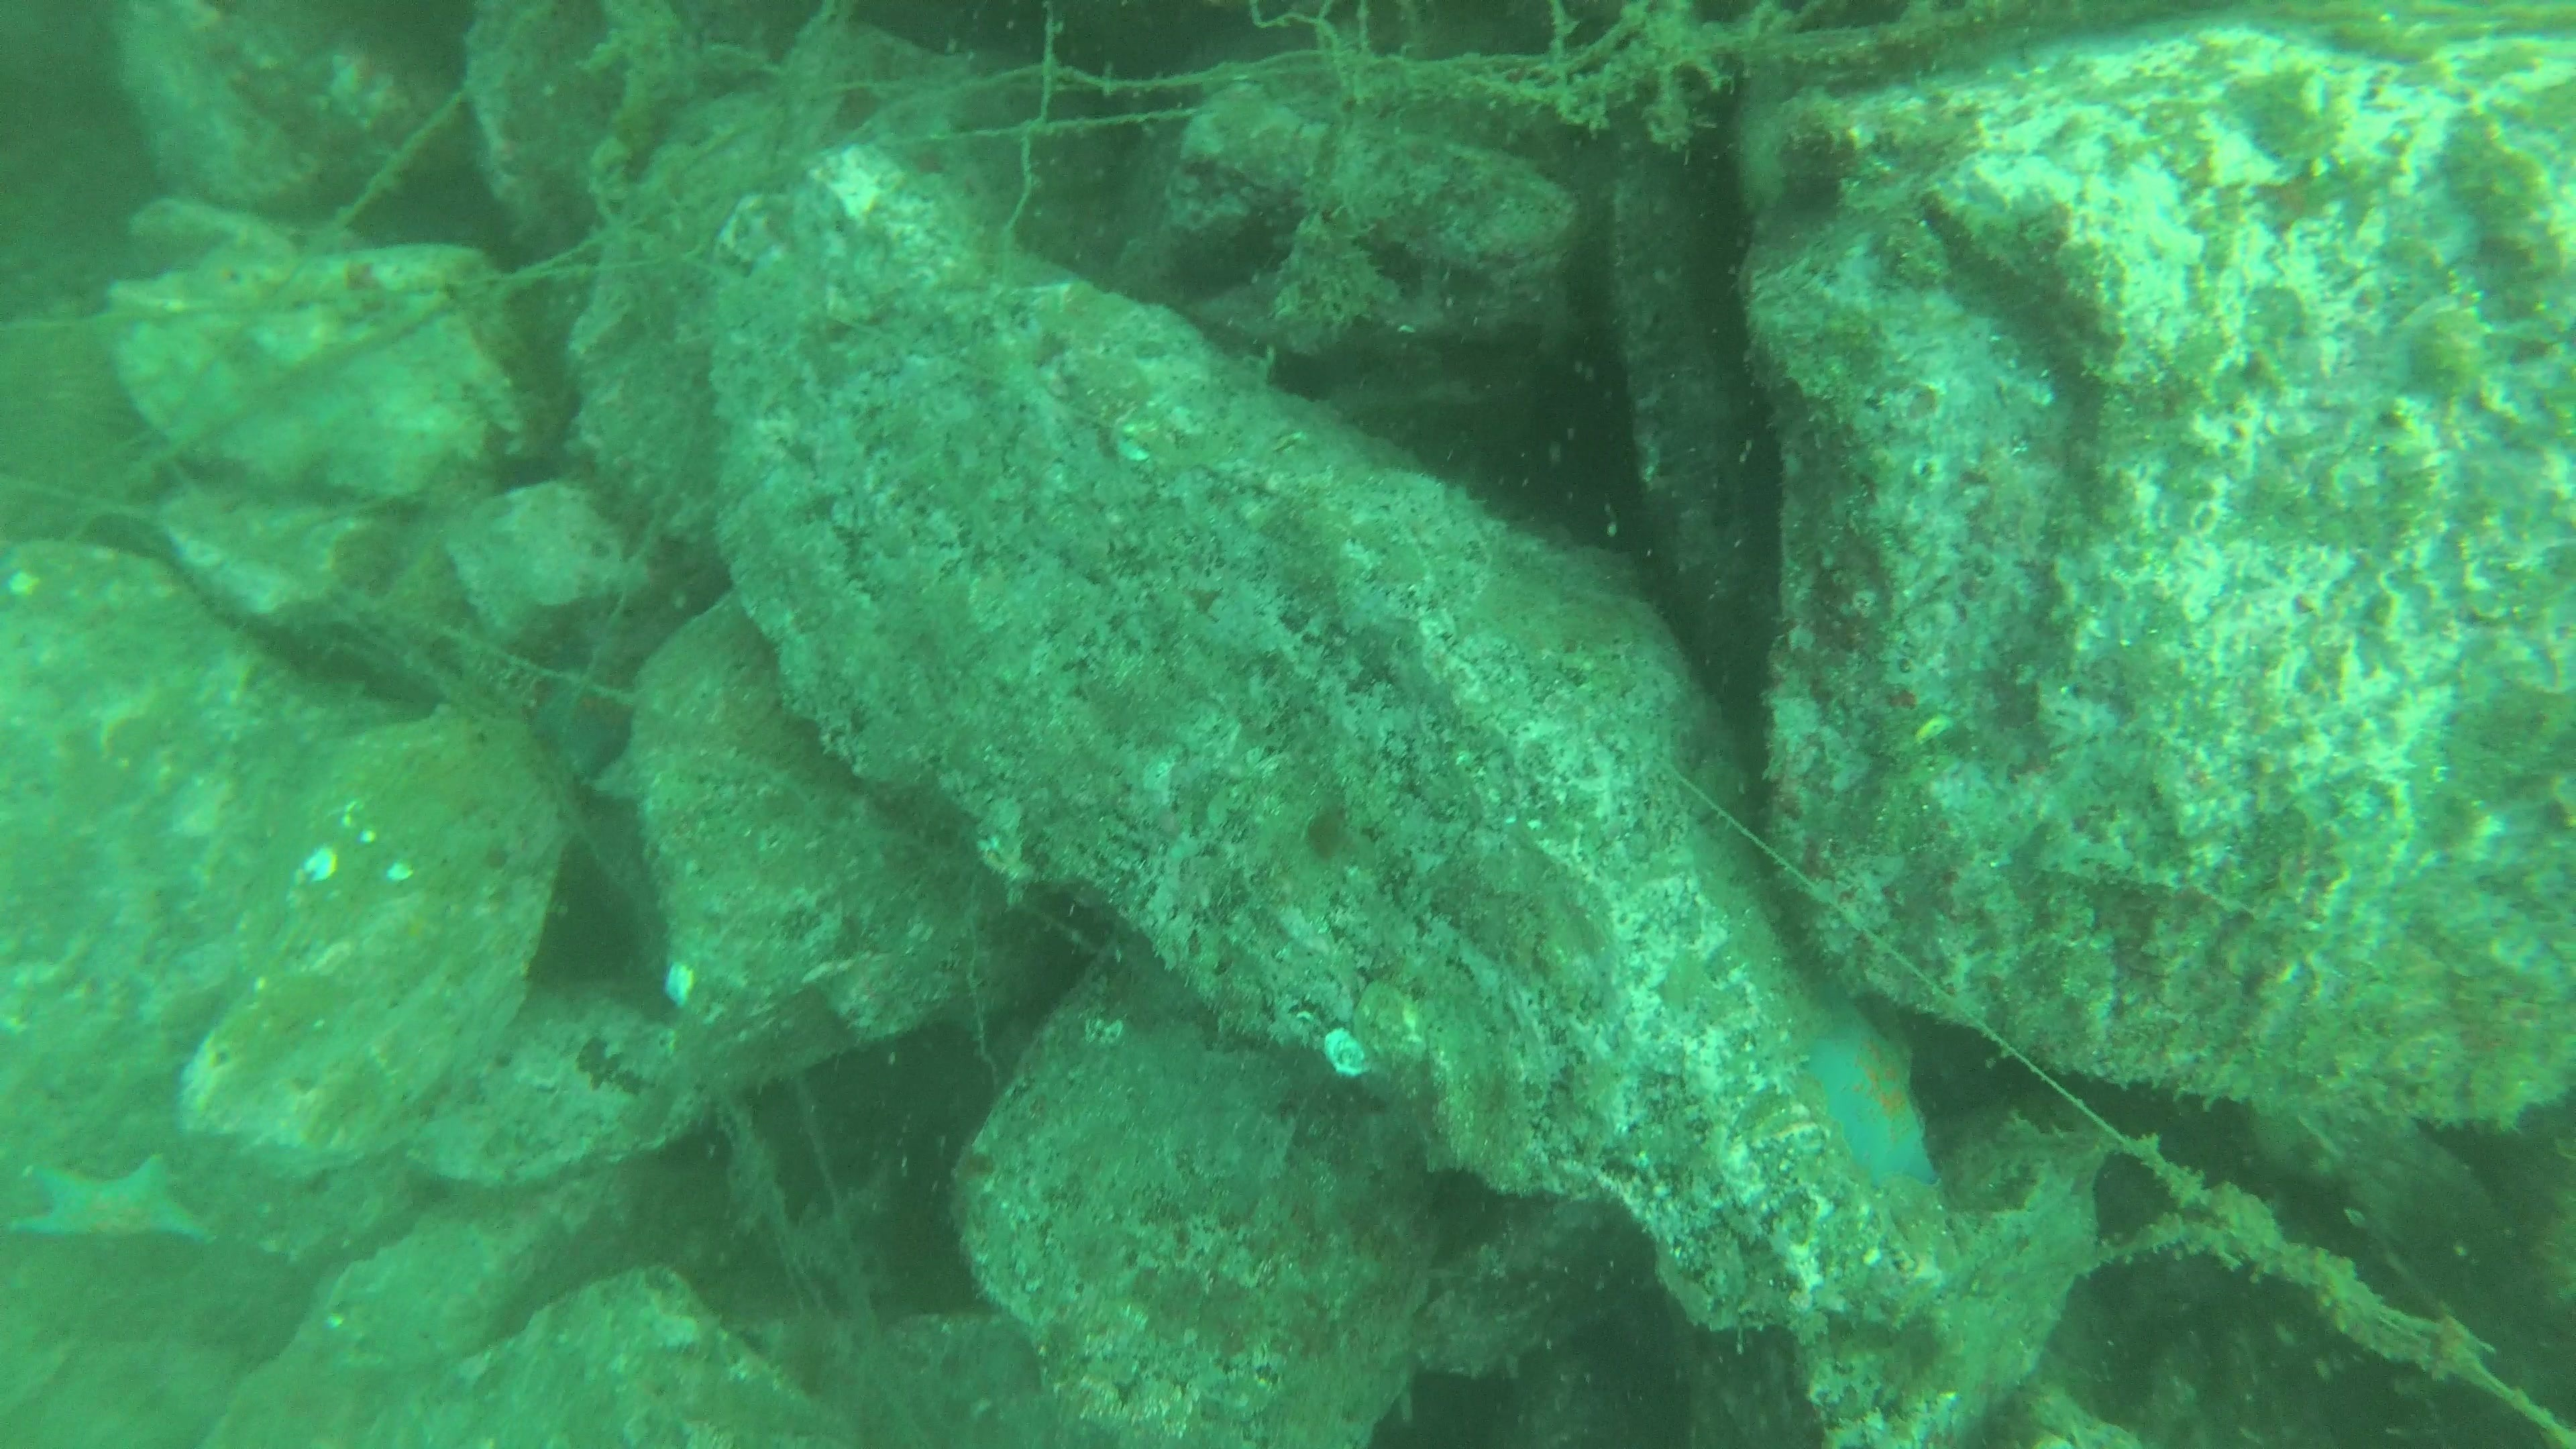echinus: (1474, 352, 1645, 547)
starfish: (1787, 1010, 1951, 1201), (9, 1143, 216, 1254), (522, 662, 644, 784)
